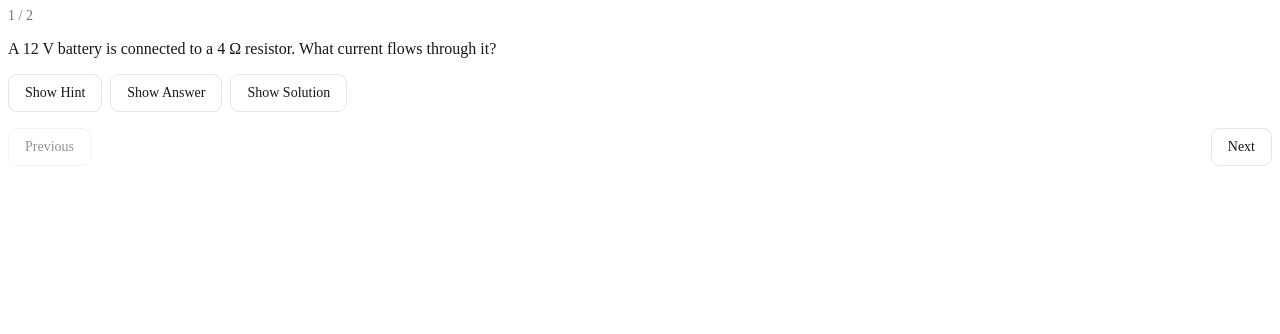
Test: PracticeProblems › shows solution and answer together
Click the button "Show Solution" at [289, 93], box [230,74,347,112]
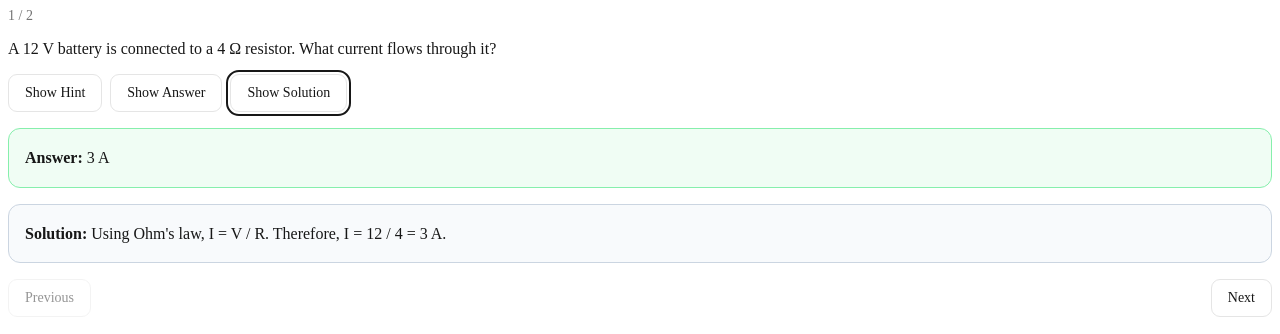
Result: the text "3 A" is shown at [87,149,110,166]
Result: the text "Using Ohm's law, I = V / R. Therefore, I = 12 / 4 = 3 A." is shown at [91,225,446,242]
